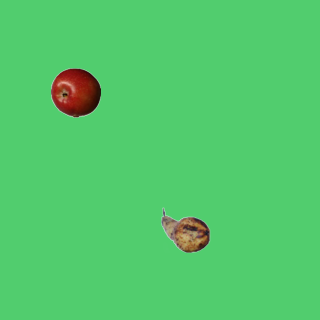Apple Braeburn: (50, 67, 100, 117)
Pear Abate: (160, 205, 210, 255)
